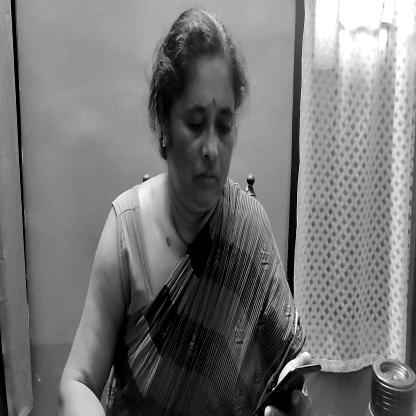Distracted: (164, 44, 240, 208)
